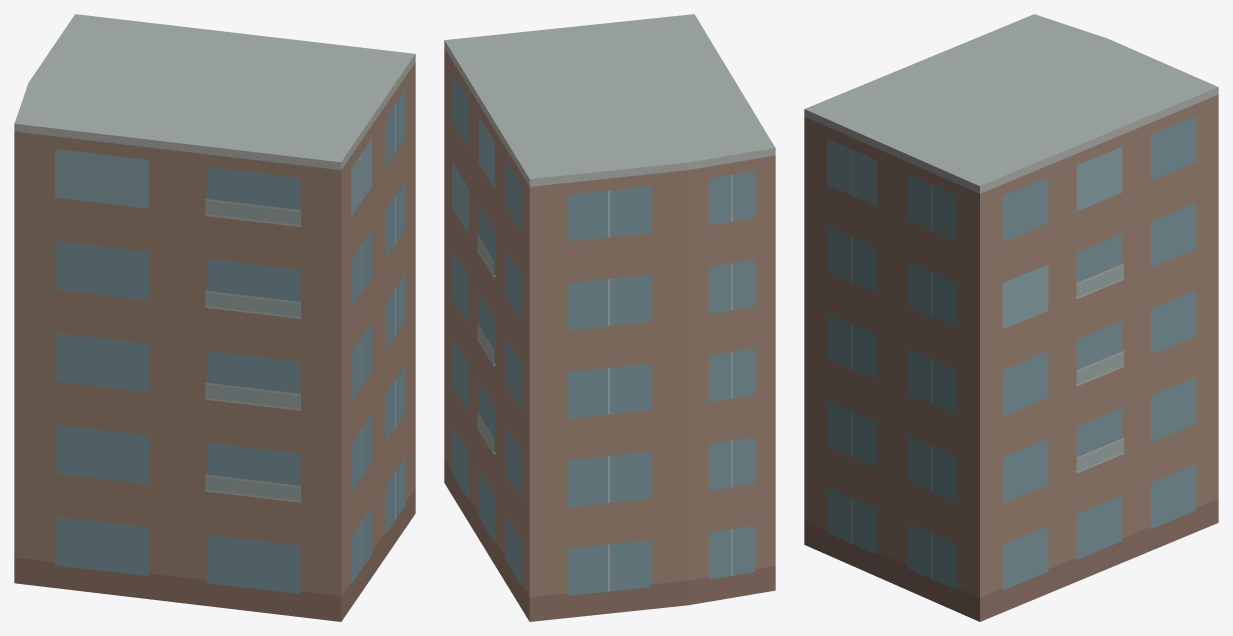
Rendered from survey-upis-33017660.glb.
3 views of the same model, side by side, from view 1: azimuth 30°, elevation 25°; view 2: azimuth 150°, elevation 25°; view 3: azimuth 270°, elevation 25° (orthographic). The views are drawn at different scales.
Parts seen in each view (by area): view 1: survey-upis-33017660.tmp; view 2: survey-upis-33017660.tmp; view 3: survey-upis-33017660.tmp.
Part boxes in pixels (bbox=[...]): survey-upis-33017660.tmp: bbox=[14, 14, 415, 621]; survey-upis-33017660.tmp: bbox=[444, 14, 775, 621]; survey-upis-33017660.tmp: bbox=[804, 14, 1218, 621].
Size of the model in its own units: 12.14 by 14.3 by 12.34.
